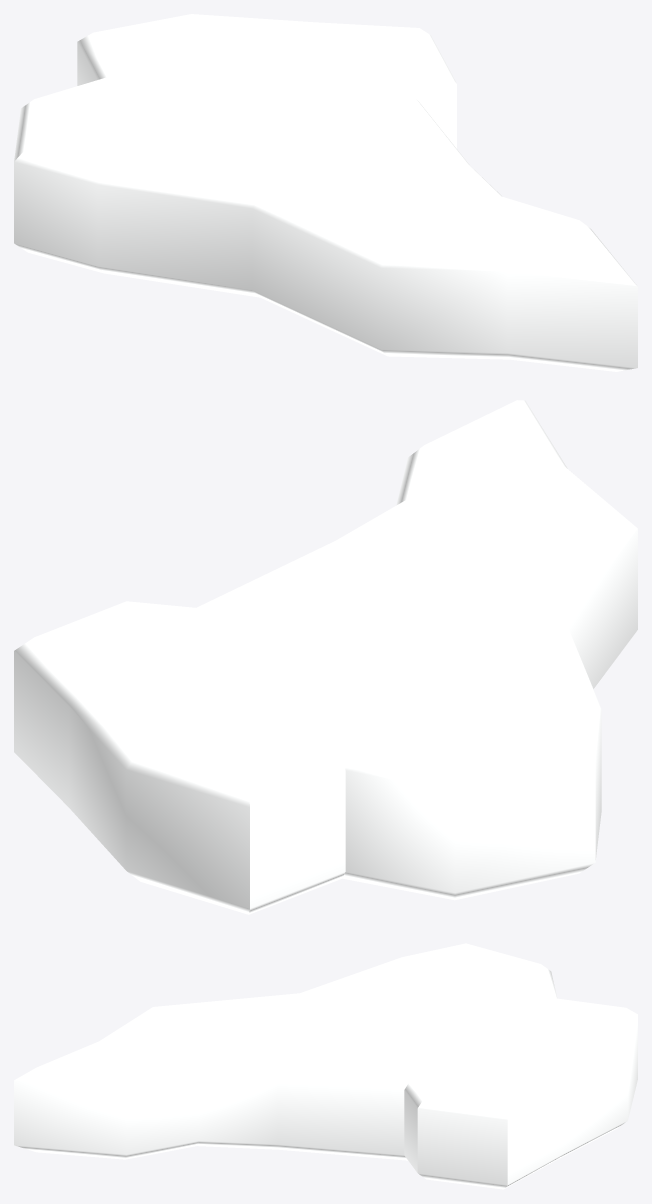
File: ice_floe_medium_009.glb
3 views of the same model, one above another, from view 1: azimuth 30°, elevation 25°; view 2: azimuth 150°, elevation 25°; view 3: azimuth 270°, elevation 25° (orthographic). The views are drawn at different scales.
Parts seen in each view (by area): view 1: ice_floe_medium_009; view 2: ice_floe_medium_009; view 3: ice_floe_medium_009.
Boxes of the visible parts, x1,y1,x2,y2 form: ice_floe_medium_009: (14, 14, 637, 371); ice_floe_medium_009: (14, 400, 637, 914); ice_floe_medium_009: (14, 943, 637, 1189).
Bounding box in the file's own units: 3.9 × 0.8944 × 5.97.
1 material, 1 textured.
